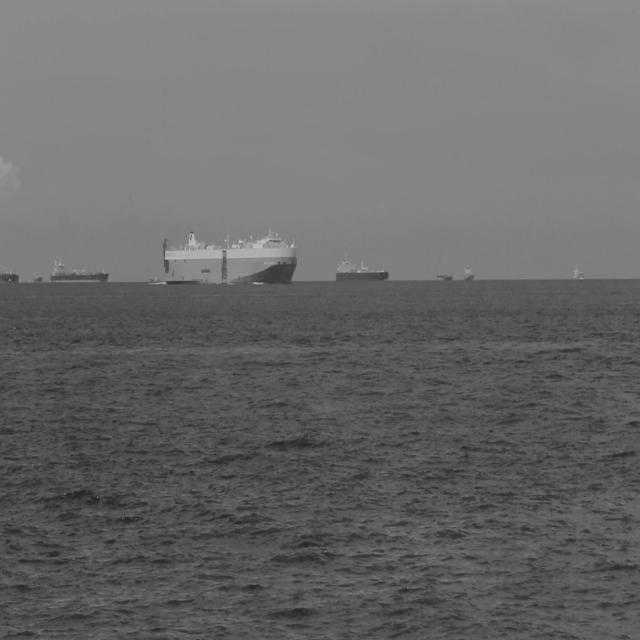ship: (161, 227, 297, 287), (50, 254, 110, 286), (336, 254, 390, 284), (0, 264, 20, 286), (572, 263, 584, 281), (463, 265, 475, 282), (32, 268, 43, 285), (436, 273, 453, 282), (149, 274, 160, 285), (6, 277, 13, 284)
